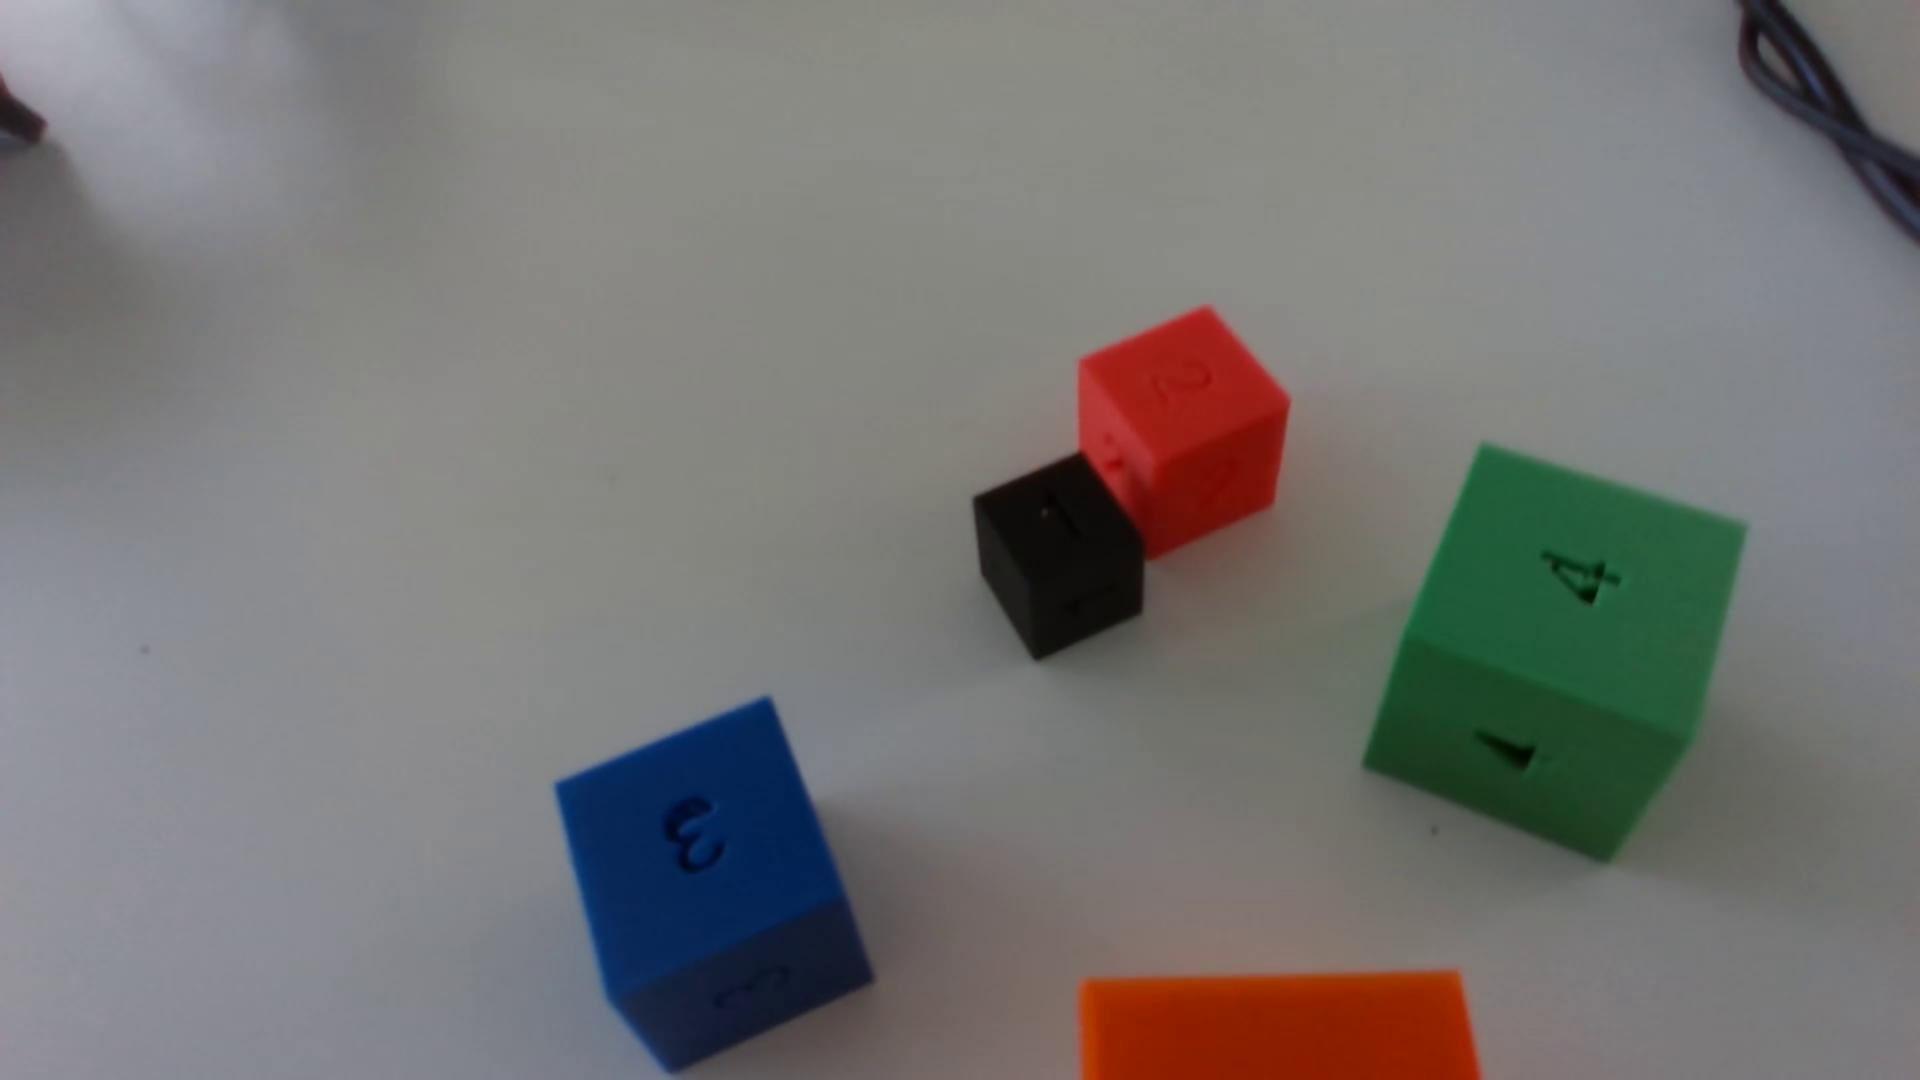black: (972, 454, 1146, 661)
blue: (555, 700, 872, 1072)
green: (1364, 446, 1745, 862)
orange: (1077, 971, 1481, 1080)
red: (1077, 309, 1290, 560)
